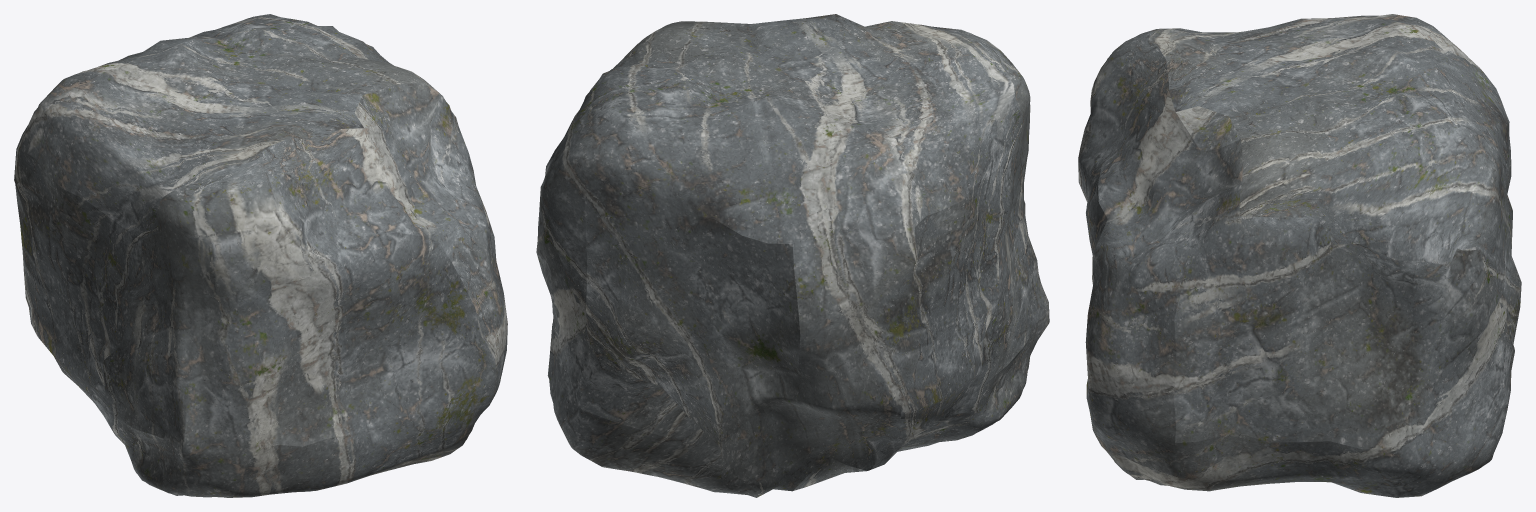
The model's file is SM_StoneBrick_A_03.fbx.
3 views of the same model, side by side, from view 1: azimuth 30°, elevation 25°; view 2: azimuth 150°, elevation 25°; view 3: azimuth 270°, elevation 25° (orthographic). The views are drawn at different scales.
Visible parts, largest first — view 1: SM_StoneBrick_A_03_LOD0; view 2: SM_StoneBrick_A_03_LOD0; view 3: SM_StoneBrick_A_03_LOD0.
Boxes of the visible parts, bbox=[...] form: SM_StoneBrick_A_03_LOD0: bbox=[14, 14, 507, 497]; SM_StoneBrick_A_03_LOD0: bbox=[536, 14, 1049, 497]; SM_StoneBrick_A_03_LOD0: bbox=[1078, 14, 1521, 497].
Size of the model in its own units: 73.74 by 76.53 by 73.51.
